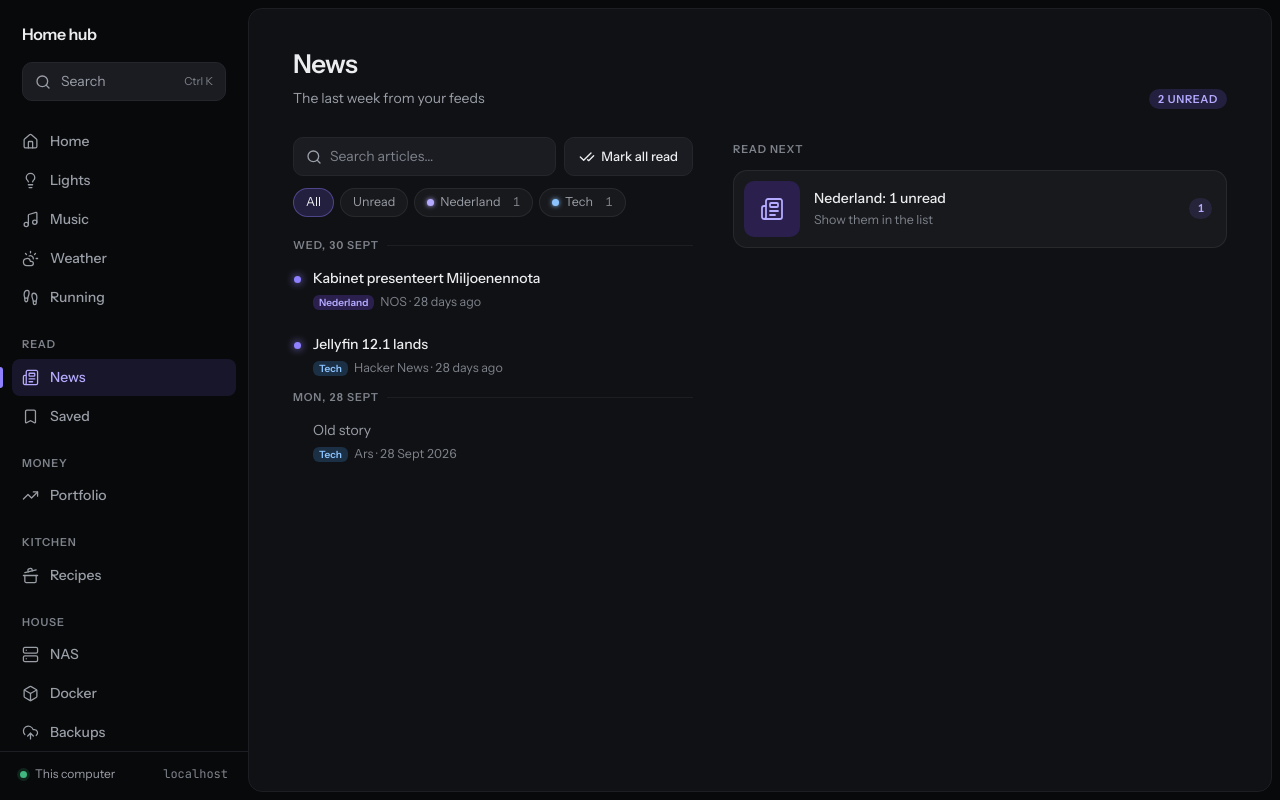
Test: NewsPage › filters by group, unread and search
This screenshot has width=1280, height=800.
Click the button "Tech 1" at point(582, 202), box [539, 188, 626, 217]
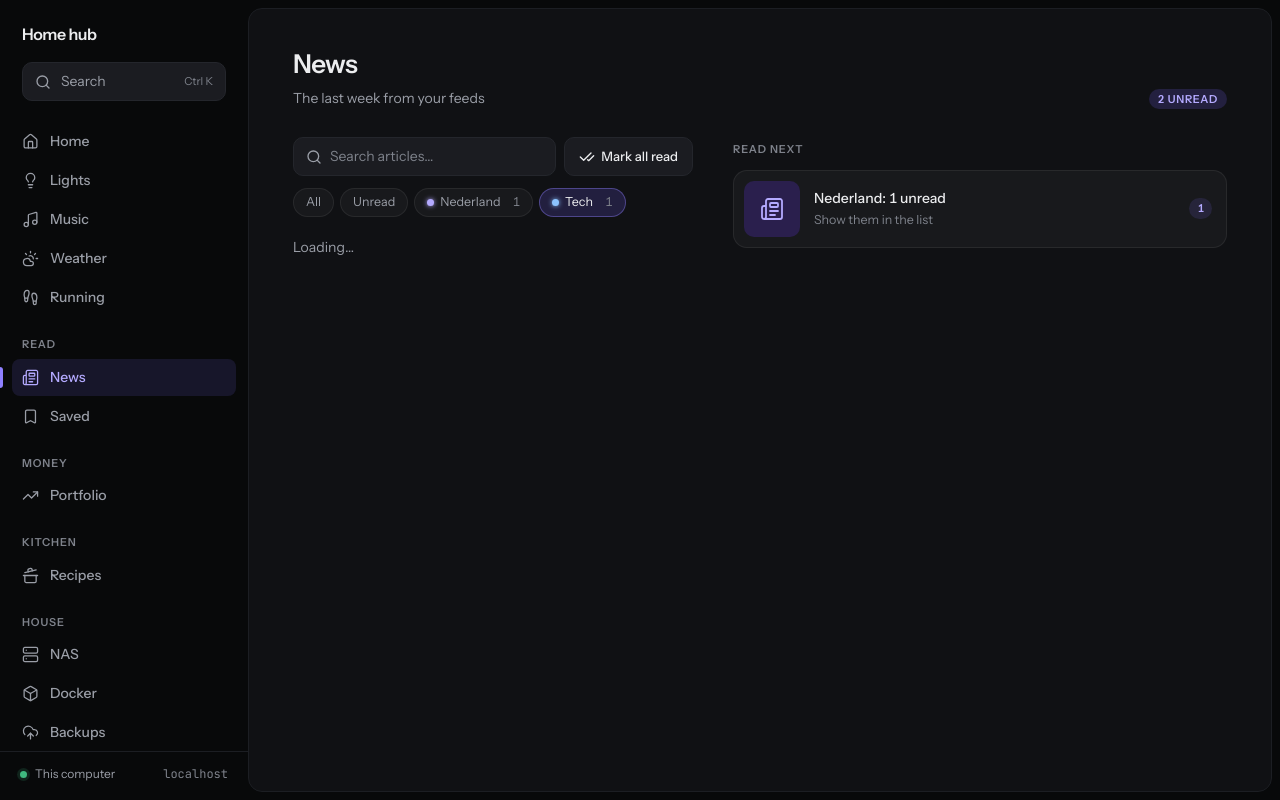
Expected: the link "Kabinet presenteert Miljoenennota" is gone
Click the button "Unread" at point(374, 202), box [340, 188, 408, 217]
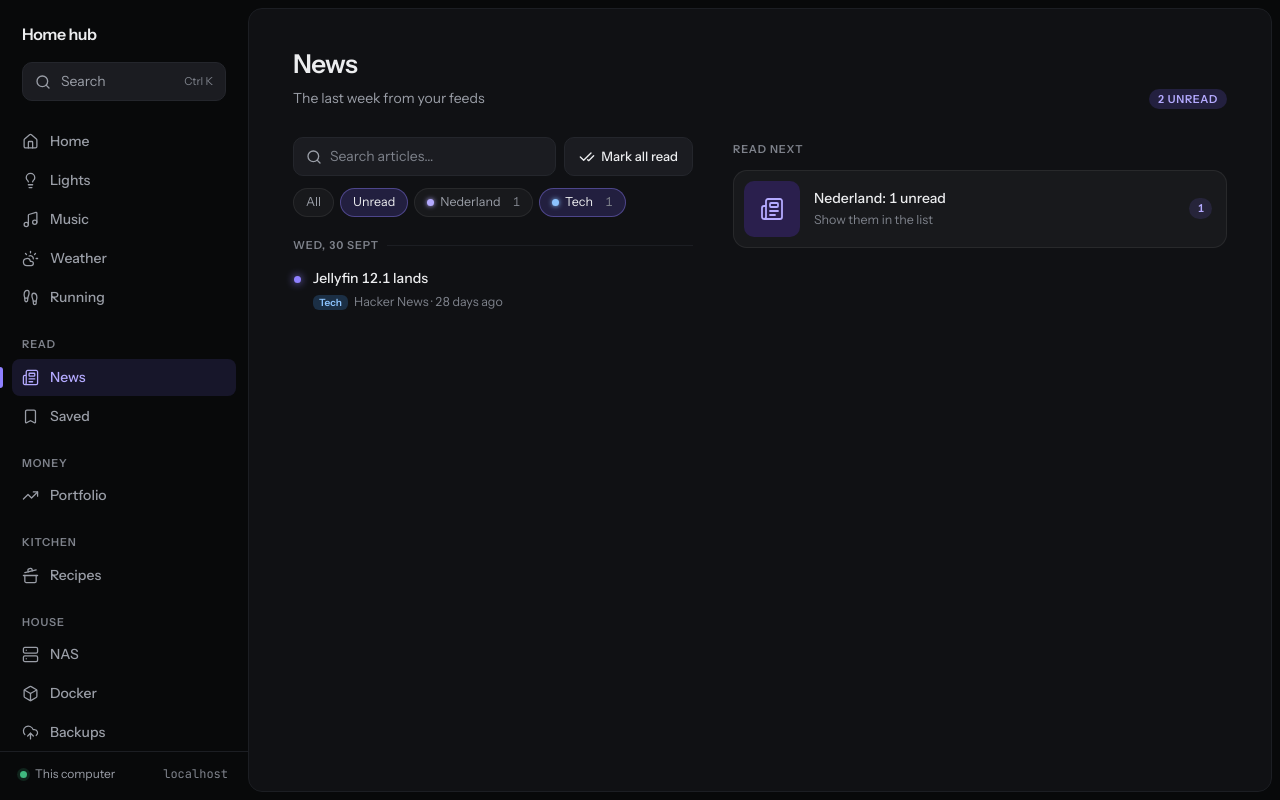
Expected: the link "Old story" is not shown
Type "jelly" into the search field labelled "Search articles" at point(437, 156), box [330, 146, 543, 167]
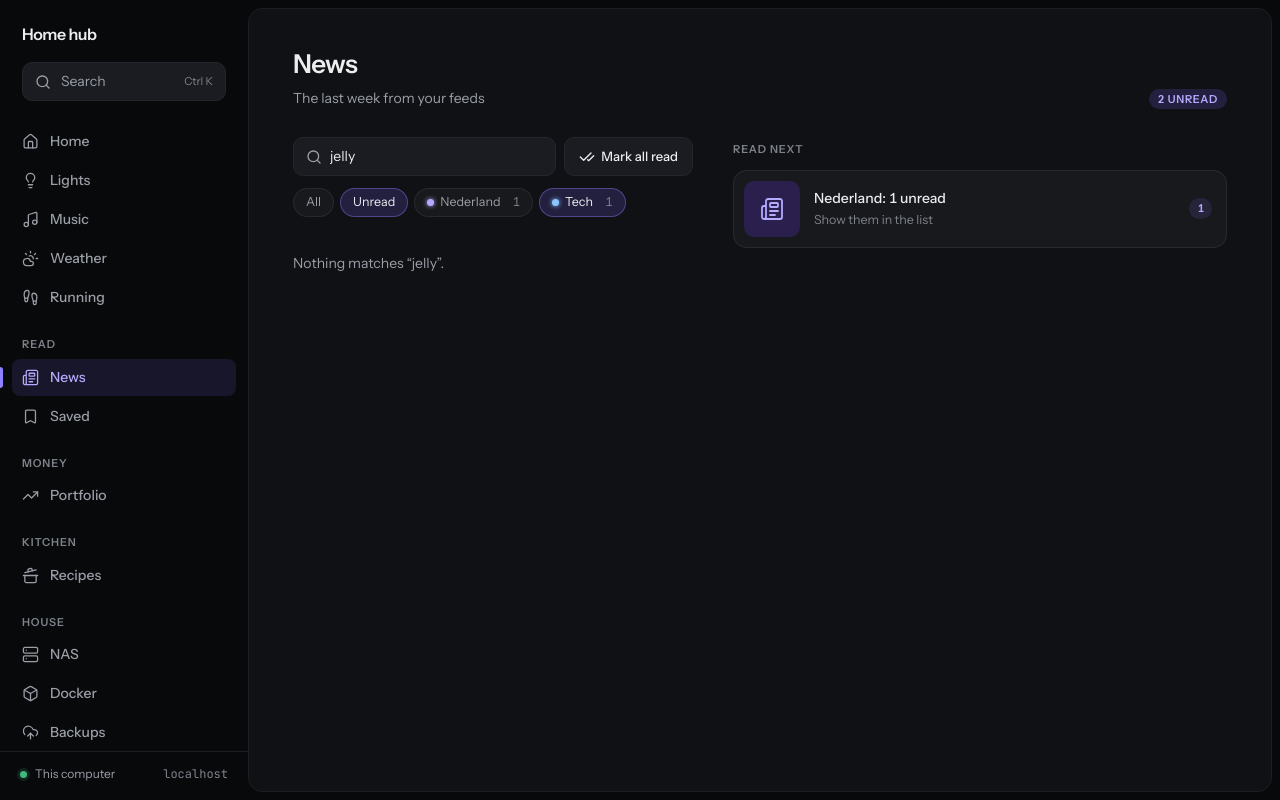
Expected: the text "Nothing matches “jelly”." is shown, [293, 254, 444, 272]
